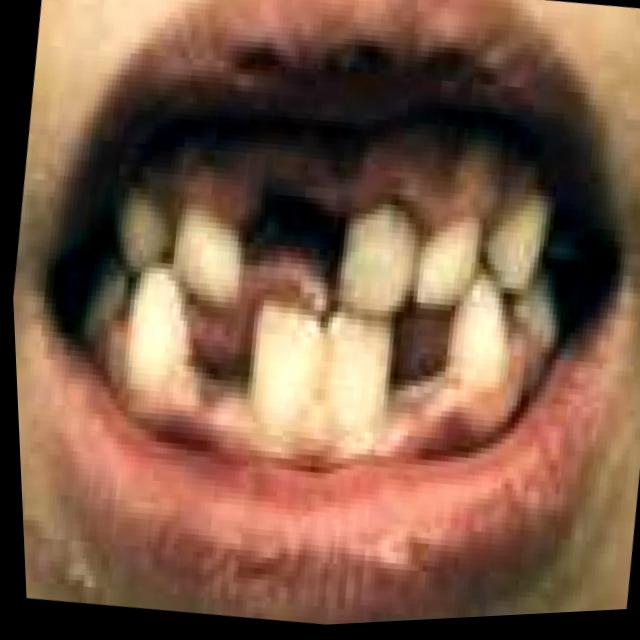hypodontia: (344, 301, 498, 451), (240, 150, 352, 311), (396, 308, 428, 352)
